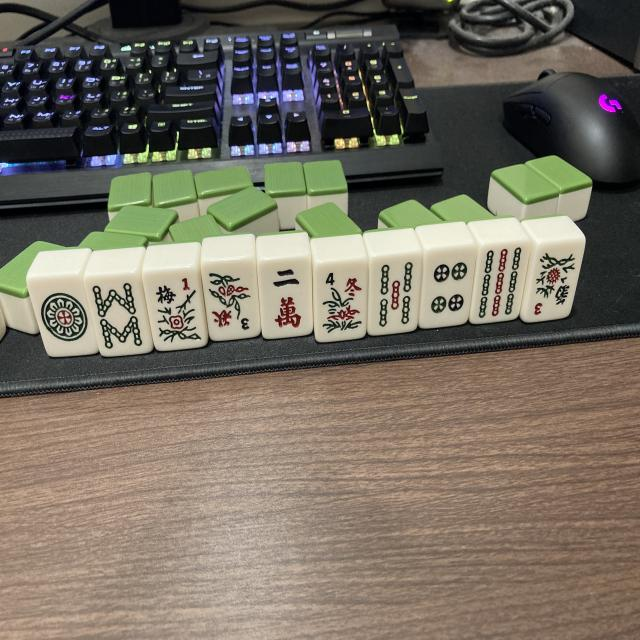f1: (144, 271, 206, 349)
f3: (525, 247, 581, 323)
ff3: (203, 263, 261, 339)
ff4: (315, 266, 371, 342)
m2: (258, 260, 314, 338)
s5: (368, 257, 423, 333)
s8: (86, 278, 150, 355)
s9: (470, 246, 530, 324)
t1: (31, 278, 98, 358)
t4: (421, 250, 478, 328)
